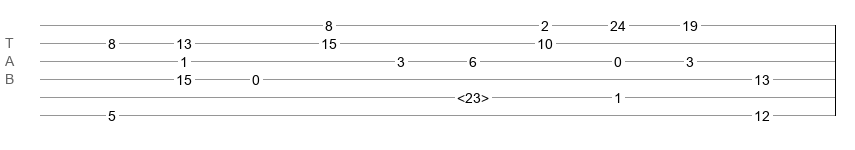0: (252, 72, 260, 82), (614, 54, 622, 64)
1: (180, 54, 188, 64), (614, 90, 622, 100)
10: (537, 36, 553, 46)
12: (754, 108, 770, 118)
13: (176, 36, 192, 46), (754, 72, 770, 82)
15: (176, 72, 192, 82), (321, 36, 337, 46)
19: (682, 18, 698, 28)
2: (541, 18, 549, 28)
24: (610, 18, 626, 28)
3: (397, 54, 405, 64), (686, 54, 694, 64)
5: (108, 108, 116, 118)
6: (469, 54, 477, 64)
8: (108, 36, 116, 46), (325, 18, 333, 28)
harmonic: (457, 90, 489, 100)
